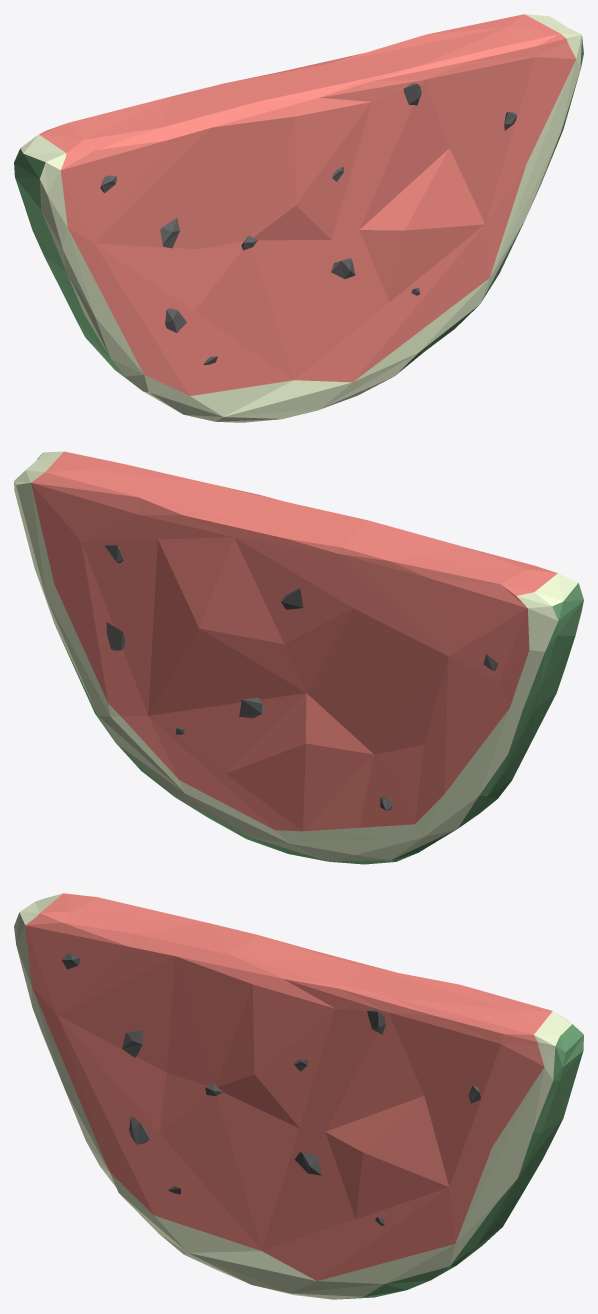
The model's file is watermelon.fbx.
3 renders of one model, top to bottom at view 1: azimuth 30°, elevation 25°; view 2: azimuth 150°, elevation 25°; view 3: azimuth 330°, elevation 25°, orthographic.
Visible parts, largest first — view 1: watermelonslice; view 2: watermelonslice; view 3: watermelonslice.
Boxes of the visible parts, x1=… form: watermelonslice: x1=14, y1=14, x2=583, y2=422; watermelonslice: x1=14, y1=451, x2=583, y2=864; watermelonslice: x1=14, y1=893, x2=583, y2=1299.
Bounding box in the file's own units: 2.84 × 1.62 × 0.413.
